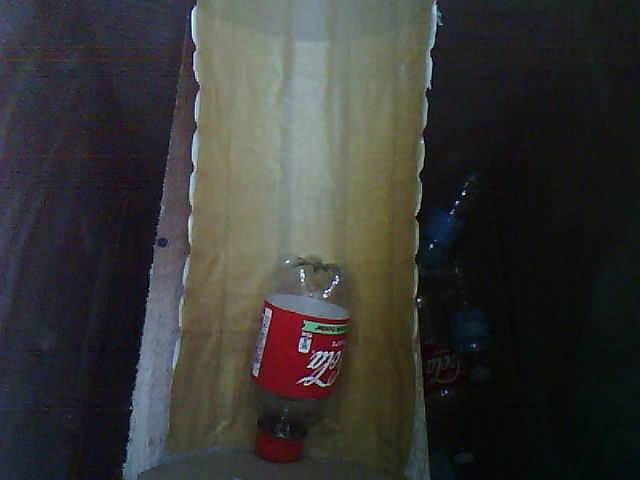small_bottle: (222, 239, 373, 480)
